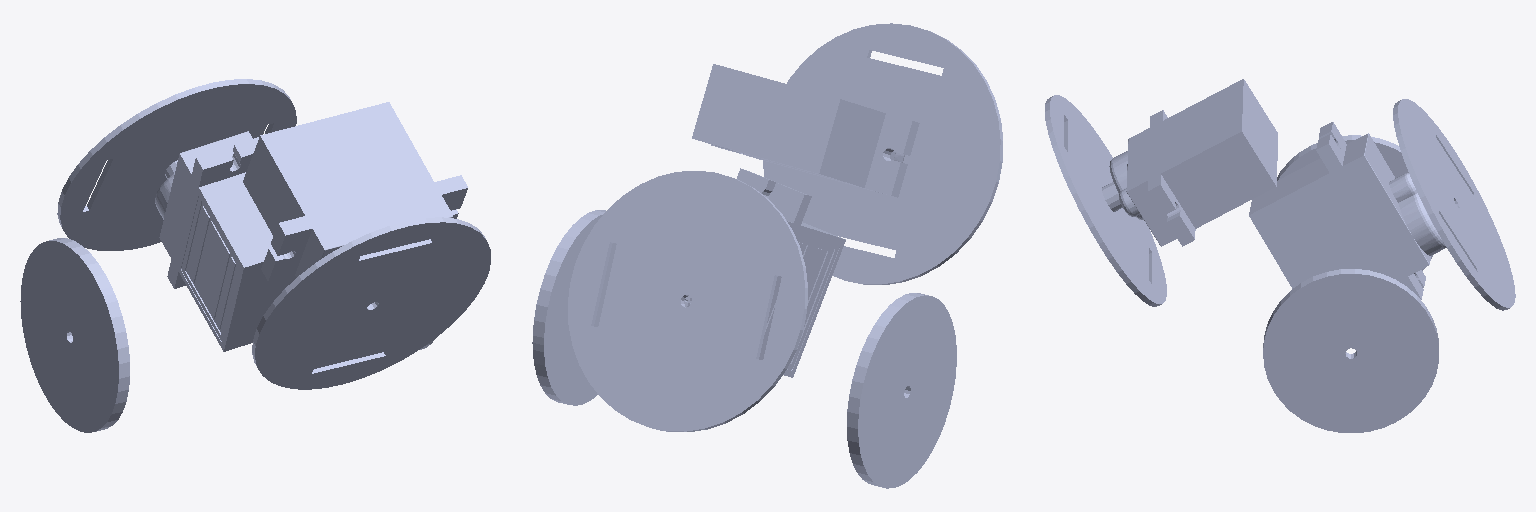
robot.urdf — Aseembled.SLDASM:
<?xml version="1.0" encoding="utf-8"?>
<!-- This URDF was automatically created by SolidWorks to URDF Exporter! Originally created by [author] ([email redacted]) 
     Commit Version: 1.6.0-1-g15f4949  Build Version: 1.6.7594.29634
     For more information, please see http://wiki.ros.org/sw_urdf_exporter -->
<robot
  name="Aseembled.SLDASM">
  <link
    name="base_link">
    <inertial>
      <origin
        xyz="0.0238549643811551 -0.0687402008780061 0.0509934507184344"
        rpy="0 0 0" />
      <mass
        value="0.0158442666258974" />
      <inertia
        ixx="8.64186137417573E-06"
        ixy="2.93045621432061E-10"
        ixz="-1.3990652682278E-10"
        iyy="1.14111044288373E-05"
        iyz="1.40453418487303E-06"
        izz="1.38941125169339E-05" />
    </inertial>
    <visual>
      <origin
        xyz="0 0 0"
        rpy="0 0 0" />
      <geometry>
        <mesh
          filename="package://Aseembled.SLDASM/meshes/base_link.STL" />
      </geometry>
      <material
        name="">
        <color
          rgba="0.792156862745098 0.819607843137255 0.933333333333333 1" />
      </material>
    </visual>
    <collision>
      <origin
        xyz="0 0 0"
        rpy="0 0 0" />
      <geometry>
        <mesh
          filename="package://Aseembled.SLDASM/meshes/base_link.STL" />
      </geometry>
    </collision>
  </link>
  <link
    name="Servo1">
    <inertial>
      <origin
        xyz="0.00498028326335194 -3.52397354019054E-05 0.00976351523861422"
        rpy="0 0 0" />
      <mass
        value="0.00677100561965019" />
      <inertia
        ixx="4.31149660500128E-07"
        ixy="8.82228336546791E-11"
        ixz="-3.10904675105348E-08"
        iyy="6.7193855500407E-07"
        iyz="1.06334246644925E-09"
        izz="3.91967419165482E-07" />
    </inertial>
    <visual>
      <origin
        xyz="0 0 0"
        rpy="0 0 0" />
      <geometry>
        <mesh
          filename="package://Aseembled.SLDASM/meshes/Servo1.STL" />
      </geometry>
      <material
        name="">
        <color
          rgba="0.792156862745098 0.819607843137255 0.933333333333333 1" />
      </material>
    </visual>
    <collision>
      <origin
        xyz="0 0 0"
        rpy="0 0 0" />
      <geometry>
        <mesh
          filename="package://Aseembled.SLDASM/meshes/Servo1.STL" />
      </geometry>
    </collision>
  </link>
  <joint
    name="Servo1"
    type="continuous">
    <origin
      xyz="0.0238555018573711 -0.0454528518302611 0.0462255832648354"
      rpy="-2.92344819487844 -1.03312497959637 -1.82337173201453" />
    <parent
      link="base_link" />
    <child
      link="Servo1" />
    <axis
      xyz="0 0 1" />
  </joint>
  <link
    name="DockingPlate1">
    <inertial>
      <origin
        xyz="1.38777878078145E-17 -1.04083408558608E-17 -0.00797500625000004"
        rpy="0 0 0" />
      <mass
        value="0.00122139767518029" />
      <inertia
        ixx="1.19200352550562E-07"
        ixy="4.96308367531817E-24"
        ixz="-3.63959469523332E-23"
        iyy="1.25310058948455E-07"
        iyz="-4.25998015464809E-23"
        izz="2.4430684521982E-07" />
    </inertial>
    <visual>
      <origin
        xyz="0 0 0"
        rpy="0 0 0" />
      <geometry>
        <mesh
          filename="package://Aseembled.SLDASM/meshes/DockingPlate1.STL" />
      </geometry>
      <material
        name="">
        <color
          rgba="0.792156862745098 0.819607843137255 0.933333333333333 1" />
      </material>
    </visual>
    <collision>
      <origin
        xyz="0 0 0"
        rpy="0 0 0" />
      <geometry>
        <mesh
          filename="package://Aseembled.SLDASM/meshes/DockingPlate1.STL" />
      </geometry>
    </collision>
  </link>
  <joint
    name="Docker"
    type="continuous">
    <origin
      xyz="0 0 0"
      rpy="0 0 2.97583807838417" />
    <parent
      link="Servo1" />
    <child
      link="DockingPlate1" />
    <axis
      xyz="0 0 1" />
  </joint>
  <link
    name="Servo2">
    <inertial>
      <origin
        xyz="0.0049802831852009 -3.52396307270741E-05 -0.00518649714855853"
        rpy="0 0 0" />
      <mass
        value="0.00677100554095321" />
      <inertia
        ixx="4.31149651639776E-07"
        ixy="8.82223307448155E-11"
        ixz="-3.10904721063372E-08"
        iyy="6.71938546412863E-07"
        iyz="1.06334913720177E-09"
        izz="3.91967418044199E-07" />
    </inertial>
    <visual>
      <origin
        xyz="0 0 0"
        rpy="0 0 0" />
      <geometry>
        <mesh
          filename="package://Aseembled.SLDASM/meshes/Servo2.STL" />
      </geometry>
      <material
        name="">
        <color
          rgba="0.792156862745098 0.819607843137255 0.933333333333333 1" />
      </material>
    </visual>
    <collision>
      <origin
        xyz="0 0 0"
        rpy="0 0 0" />
      <geometry>
        <mesh
          filename="package://Aseembled.SLDASM/meshes/Servo2.STL" />
      </geometry>
    </collision>
  </link>
  <joint
    name="Servo2"
    type="continuous">
    <origin
      xyz="0.0238555018573711 -0.0779348729743754 0.0623630957648355"
      rpy="-1.04701686895547 -0.0250141124981463 -0.0144454198491116" />
    <parent
      link="base_link" />
    <child
      link="Servo2" />
    <axis
      xyz="0 0 1" />
  </joint>
  <link
    name="DockingPlate2">
    <inertial>
      <origin
        xyz="0 0 0.000250000000000035"
        rpy="0 0 0" />
      <mass
        value="0.00122139767518029" />
      <inertia
        ixx="1.19200352550563E-07"
        ixy="2.02269032574888E-27"
        ixz="-2.4893208725855E-25"
        iyy="1.25310058948456E-07"
        iyz="-5.29395592033938E-23"
        izz="2.44306845219822E-07" />
    </inertial>
    <visual>
      <origin
        xyz="0 0 0"
        rpy="0 0 0" />
      <geometry>
        <mesh
          filename="package://Aseembled.SLDASM/meshes/DockingPlate2.STL" />
      </geometry>
      <material
        name="">
        <color
          rgba="0.792156862745098 0.819607843137255 0.933333333333333 1" />
      </material>
    </visual>
    <collision>
      <origin
        xyz="0 0 0"
        rpy="0 0 0" />
      <geometry>
        <mesh
          filename="package://Aseembled.SLDASM/meshes/DockingPlate2.STL" />
      </geometry>
    </collision>
  </link>
  <joint
    name="Docker2"
    type="continuous">
    <origin
      xyz="0 0 -0.02267501875"
      rpy="-3.14159265358979 0 0.0288848135569953" />
    <parent
      link="Servo2" />
    <child
      link="DockingPlate2" />
    <axis
      xyz="0 0 1" />
  </joint>
  <link
    name="Wheel1">
    <inertial>
      <origin
        xyz="-6.93889390390723E-18 0 0.00100000000000001"
        rpy="0 0 0" />
      <mass
        value="0.00140743350880823" />
      <inertia
        ixx="7.9989137750601E-08"
        ixy="1.19980782609539E-44"
        ixz="-3.95987936179367E-23"
        iyy="7.9989137750601E-08"
        iyz="-4.11615671294591E-41"
        izz="1.5903998649533E-07" />
    </inertial>
    <visual>
      <origin
        xyz="0 0 0"
        rpy="0 0 0" />
      <geometry>
        <mesh
          filename="package://Aseembled.SLDASM/meshes/Wheel1.STL" />
      </geometry>
      <material
        name="">
        <color
          rgba="0.792156862745098 0.819607843137255 0.933333333333333 1" />
      </material>
    </visual>
    <collision>
      <origin
        xyz="0 0 0"
        rpy="0 0 0" />
      <geometry>
        <mesh
          filename="package://Aseembled.SLDASM/meshes/Wheel1.STL" />
      </geometry>
    </collision>
  </link>
  <joint
    name="wheel1"
    type="fixed">
    <origin
      xyz="0.0505218271830018 -0.0560519890686226 0.0356478678368601"
      rpy="1.5707963267949 0 1.5707963267949" />
    <parent
      link="base_link" />
    <child
      link="Wheel1" />
    <axis
      xyz="0 0 0" />
  </joint>
  <link
    name="Wheel2">
    <inertial>
      <origin
        xyz="-1.38777878078145E-17 1.38777878078145E-17 0.001"
        rpy="0 0 0" />
      <mass
        value="0.00140743350880823" />
      <inertia
        ixx="7.9989137750601E-08"
        ixy="0"
        ixz="3.41971218980057E-24"
        iyy="7.99891377506009E-08"
        iyz="-7.12973258412668E-24"
        izz="1.5903998649533E-07" />
    </inertial>
    <visual>
      <origin
        xyz="0 0 0"
        rpy="0 0 0" />
      <geometry>
        <mesh
          filename="package://Aseembled.SLDASM/meshes/Wheel2.STL" />
      </geometry>
      <material
        name="">
        <color
          rgba="0.792156862745098 0.819607843137255 0.933333333333333 1" />
      </material>
    </visual>
    <collision>
      <origin
        xyz="0 0 0"
        rpy="0 0 0" />
      <geometry>
        <mesh
          filename="package://Aseembled.SLDASM/meshes/Wheel2.STL" />
      </geometry>
    </collision>
  </link>
  <joint
    name="wheel2"
    type="fixed">
    <origin
      xyz="-0.00281082346825967 -0.0554988150154021 0.0349160009815279"
      rpy="1.5707963267949 -0.816243207117493 -1.5707963267949" />
    <parent
      link="base_link" />
    <child
      link="Wheel2" />
    <axis
      xyz="0 0 0" />
  </joint>
</robot>

--- What the picture shows (computed from the rendered views, not written in the file) ---
3 views of the same robot in one strip: view 1: azimuth 30°, elevation 25°; view 2: azimuth 150°, elevation 25°; view 3: azimuth 270°, elevation 25° (orthographic).
Robot: Aseembled.SLDASM — 7 links, 6 joints (4 continuous, 2 fixed); root link base_link; default pose: all joints at 0.
Links seen in each view (by area): view 1: DockingPlate2, Servo2, DockingPlate1, Servo1, Wheel2; view 2: DockingPlate1, DockingPlate2, Servo2, Wheel2, Wheel1, Servo1; view 3: Wheel1, Servo1, Servo2, DockingPlate1, DockingPlate2, Wheel2.
Link boxes in pixels (x1=…): DockingPlate2: x1=252, y1=217, x2=490, y2=389; Servo2: x1=243, y1=102, x2=467, y2=281; DockingPlate1: x1=57, y1=79, x2=296, y2=250; Servo1: x1=155, y1=131, x2=296, y2=351; Wheel2: x1=20, y1=238, x2=129, y2=432; DockingPlate1: x1=568, y1=171, x2=807, y2=431; DockingPlate2: x1=763, y1=23, x2=1002, y2=284; Servo2: x1=692, y1=64, x2=919, y2=197; Wheel2: x1=847, y1=293, x2=956, y2=488; Wheel1: x1=532, y1=210, x2=616, y2=405; Servo1: x1=684, y1=168, x2=845, y2=377; Wheel1: x1=1263, y1=269, x2=1438, y2=432; Servo1: x1=1249, y1=122, x2=1446, y2=299; Servo2: x1=1102, y1=79, x2=1277, y2=246; DockingPlate1: x1=1393, y1=99, x2=1515, y2=310; DockingPlate2: x1=1045, y1=95, x2=1166, y2=306; Wheel2: x1=1277, y1=135, x2=1432, y2=270.
Bounding box of the posed robot: 0.0573 × 0.0801 × 0.0517 m (x, y, z).
6 mesh visuals loaded from 7 distinct referenced files (6 binary STL); not drawn: 1 (reference not matched to a file when rendering).